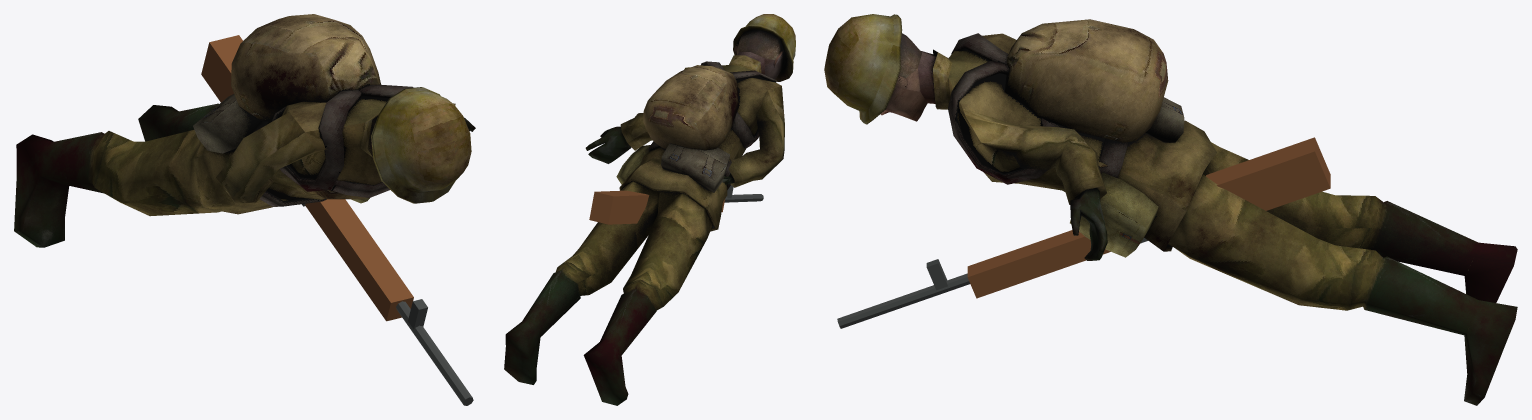
File: soviet_ww2_soldier_death_02.glb
The picture shows the model from 3 angles, left to right: view 1: azimuth 30°, elevation 25°; view 2: azimuth 150°, elevation 25°; view 3: azimuth 270°, elevation 25°; orthographic projection. The views are drawn at different scales.
Visible parts, largest first — view 1: final_Static, SovietRifle_Generated; view 2: final_Static, SovietRifle_Generated; view 3: final_Static, SovietRifle_Generated.
Boxes of the visible parts, left/top/right/bottom form: final_Static: left=14, top=14, right=475, bottom=247; SovietRifle_Generated: left=201, top=35, right=473, bottom=405; final_Static: left=504, top=14, right=795, bottom=405; SovietRifle_Generated: left=589, top=185, right=763, bottom=224; final_Static: left=824, top=14, right=1517, bottom=405; SovietRifle_Generated: left=837, top=137, right=1330, bottom=328.
Size of the model in its own units: 0.7529 by 0.9253 by 1.66.
Materials: 3 (1 with a texture image).
